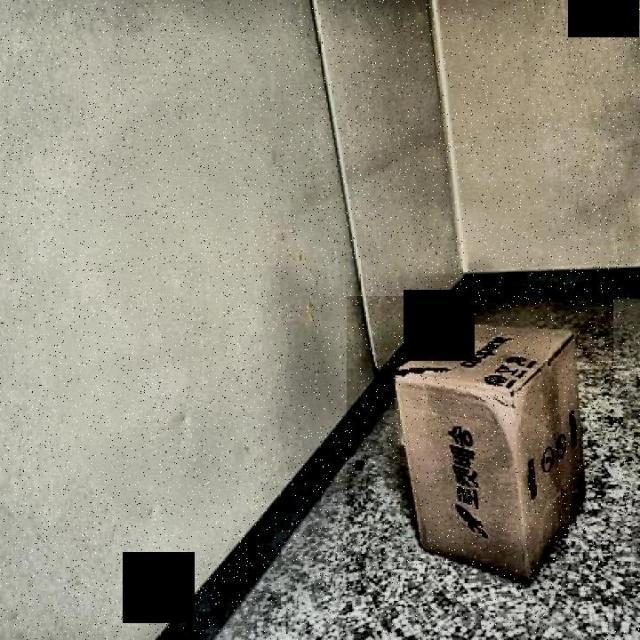box: (346, 296, 614, 596)
